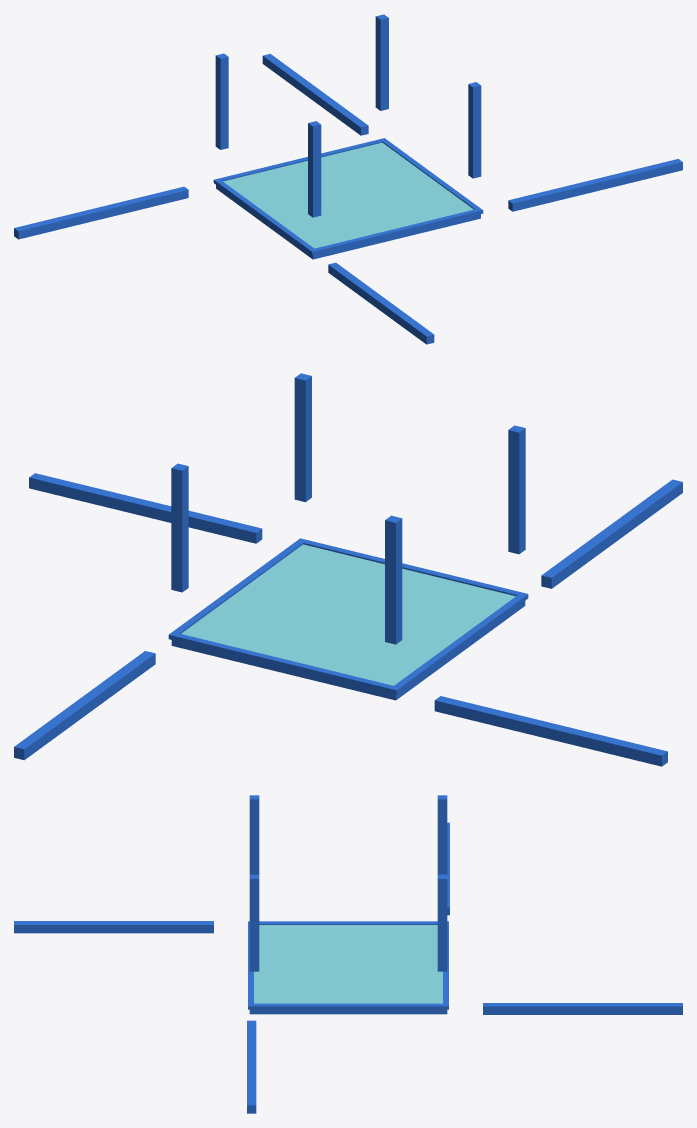
The model's file is sandbox_magic.glb.
The picture shows the model from 3 angles, top to bottom: view 1: azimuth 30°, elevation 25°; view 2: azimuth 150°, elevation 25°; view 3: azimuth 270°, elevation 25°; orthographic projection. The views are drawn at different scales.
Parts seen in each view (by area): view 1: Cube, Cube.005, Cube.006, Cube.002, Cube.003, Cube.004; view 2: Cube, Cube.005, Cube.006, Cube.002, Cube.004, Cube.003; view 3: Cube, Cube.005, Cube.004, Cube.003, Cube.002.
Boxes of the visible parts, bbox=[...] form: Cube: bbox=[213, 138, 483, 259]; Cube.005: bbox=[215, 14, 481, 217]; Cube.006: bbox=[14, 186, 188, 239]; Cube.002: bbox=[508, 159, 682, 211]; Cube.003: bbox=[262, 53, 368, 135]; Cube.004: bbox=[328, 262, 434, 344]; Cube: bbox=[168, 538, 528, 700]; Cube.005: bbox=[171, 373, 525, 644]; Cube.006: bbox=[434, 696, 667, 766]; Cube.002: bbox=[29, 473, 262, 543]; Cube.004: bbox=[541, 479, 682, 588]; Cube.003: bbox=[14, 651, 155, 760]; Cube: bbox=[248, 921, 448, 1014]; Cube.005: bbox=[249, 795, 447, 971]; Cube.004: bbox=[14, 921, 213, 933]; Cube.003: bbox=[483, 1003, 682, 1014]; Cube.002: bbox=[247, 1020, 256, 1113].
Size of the model in its own units: 17.58 by 3.93 by 17.58.
